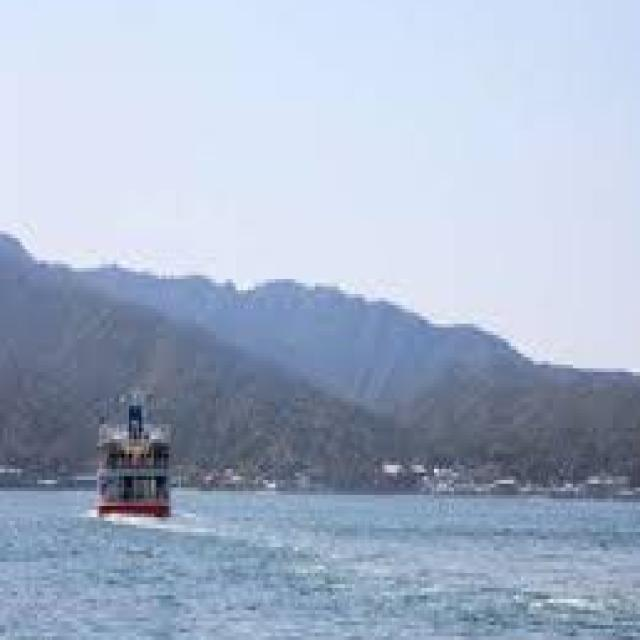fishing boat: (97, 388, 177, 525)
